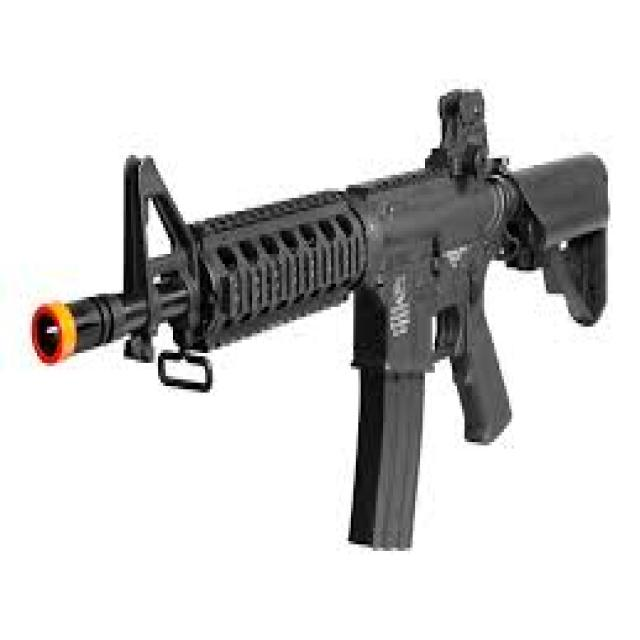rifle: (18, 75, 622, 565)
